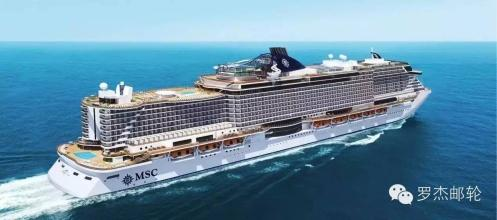youlun: (45, 35, 434, 203)
